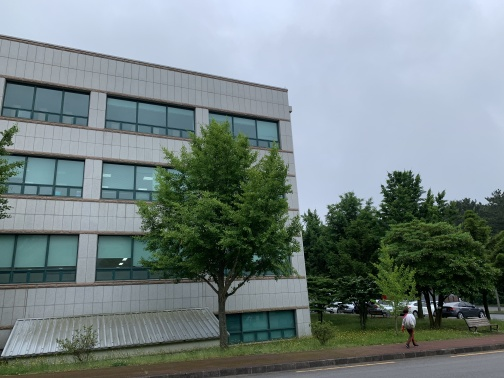Second Library: (1, 30, 315, 352)
